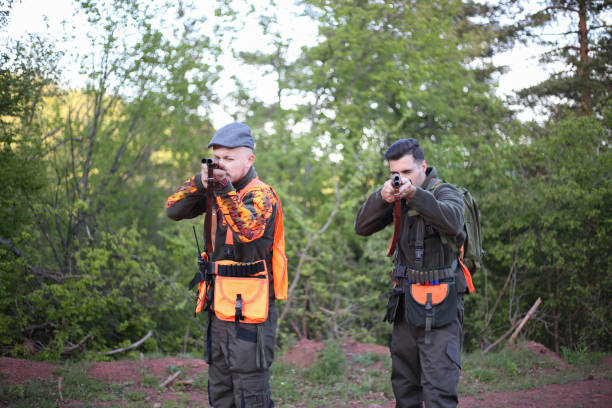gun: (391, 174, 402, 189), (201, 156, 214, 167)
